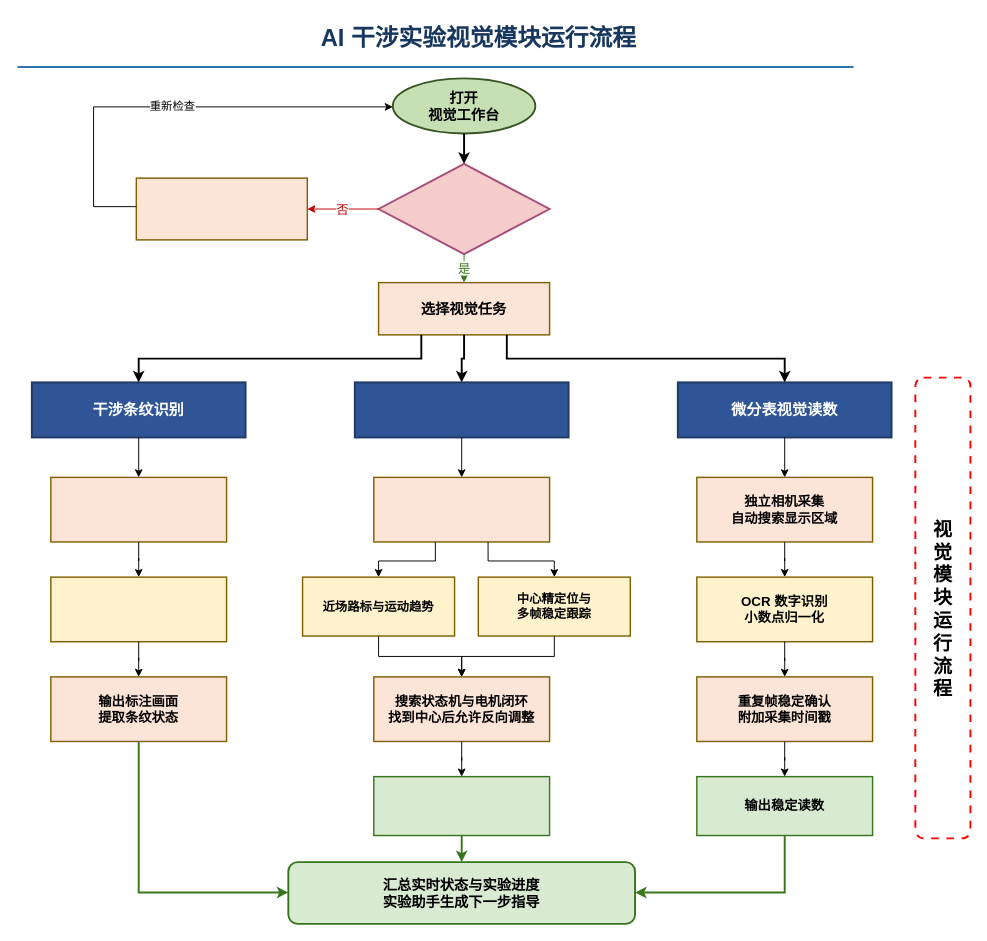
This 987x941 diagram has some shape labels left out. The shapes that lost their labels are listed below. From the top down, each one's box as (x1, y1, x2, y2) in pixels, then its label:
(135, 177, 308, 240): 释放占用设备 或更换相机索引
(377, 162, 550, 255): 双相机资源 是否可用？
(353, 381, 569, 438): 中心条纹定位
(50, 476, 227, 542): 画面旋转校正 清晰度增强与 ROI
(373, 476, 550, 542): 零级区域精定位 保留检测位置先验
(50, 576, 227, 642): YOLO 实时检测 近场条纹 / 零级区域
(373, 775, 550, 836): 可靠停车 保存中心位置
